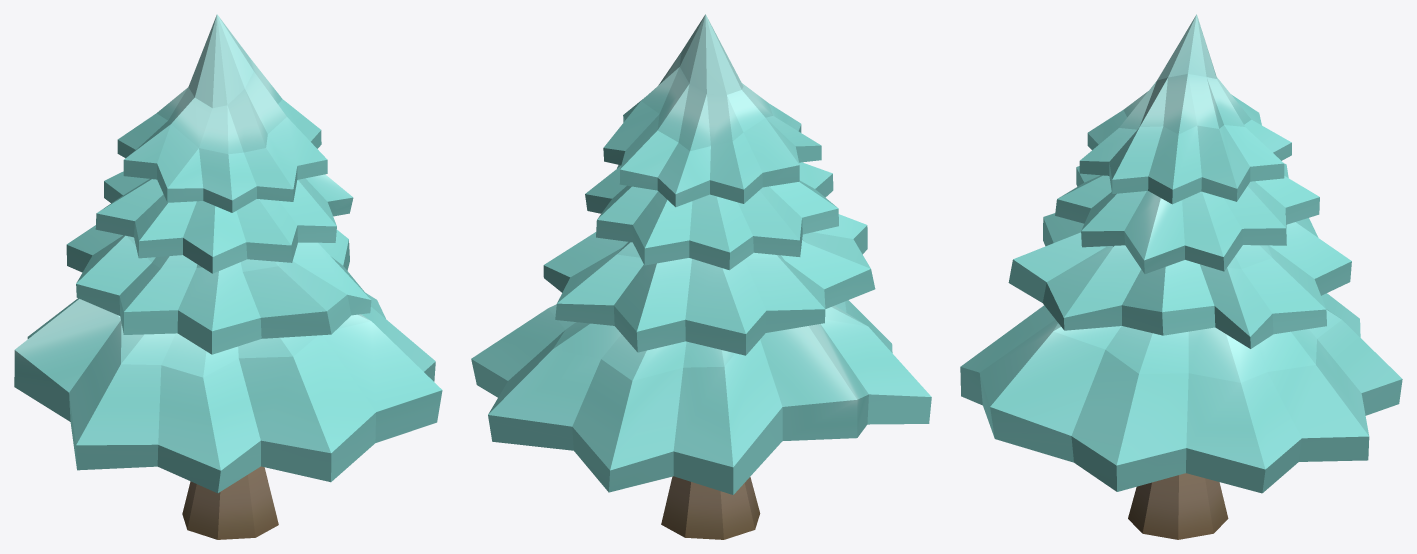
File: Tree_Fern_SmallWide_Winter.fbx
3 renders of one model, left to right at view 1: azimuth 30°, elevation 25°; view 2: azimuth 150°, elevation 25°; view 3: azimuth 270°, elevation 25°, orthographic. The views are drawn at different scales.
Parts seen in each view (by area): view 1: Tree_Fern_SmallWide_Winter; view 2: Tree_Fern_SmallWide_Winter; view 3: Tree_Fern_SmallWide_Winter.
Boxes of the visible parts, <box> form: Tree_Fern_SmallWide_Winter: <box>14,14,442,539</box>; Tree_Fern_SmallWide_Winter: <box>471,14,931,539</box>; Tree_Fern_SmallWide_Winter: <box>960,14,1402,539</box>.
Size of the model in its own units: 282 by 359 by 286.
